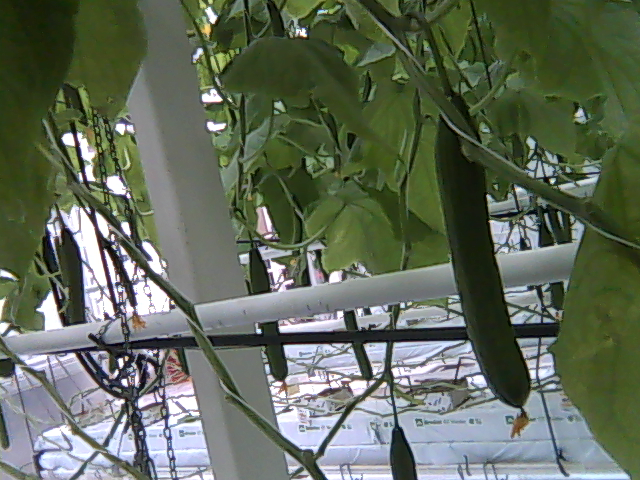concombre: (432, 86, 533, 440)
